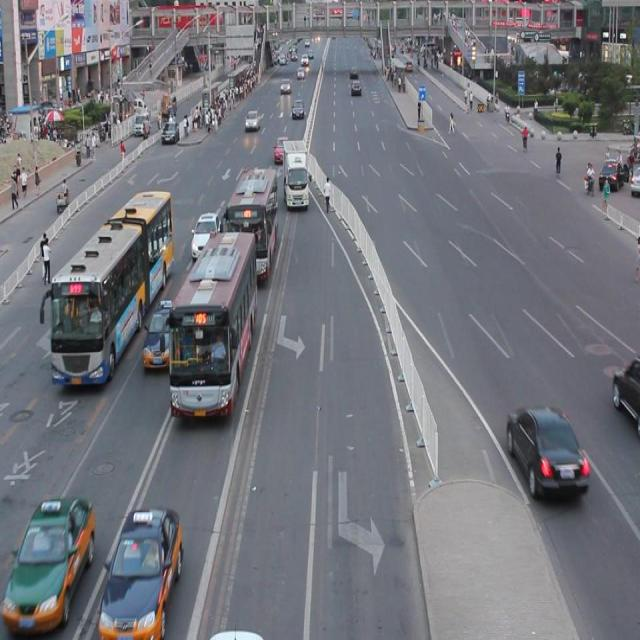bus: (282, 140, 310, 210)
car: (1, 494, 96, 628), (98, 503, 184, 640), (506, 402, 587, 498), (141, 298, 177, 368), (612, 359, 640, 436), (191, 212, 221, 256), (274, 136, 289, 164)
van: (42, 188, 173, 388), (168, 228, 255, 419), (224, 168, 279, 282)
